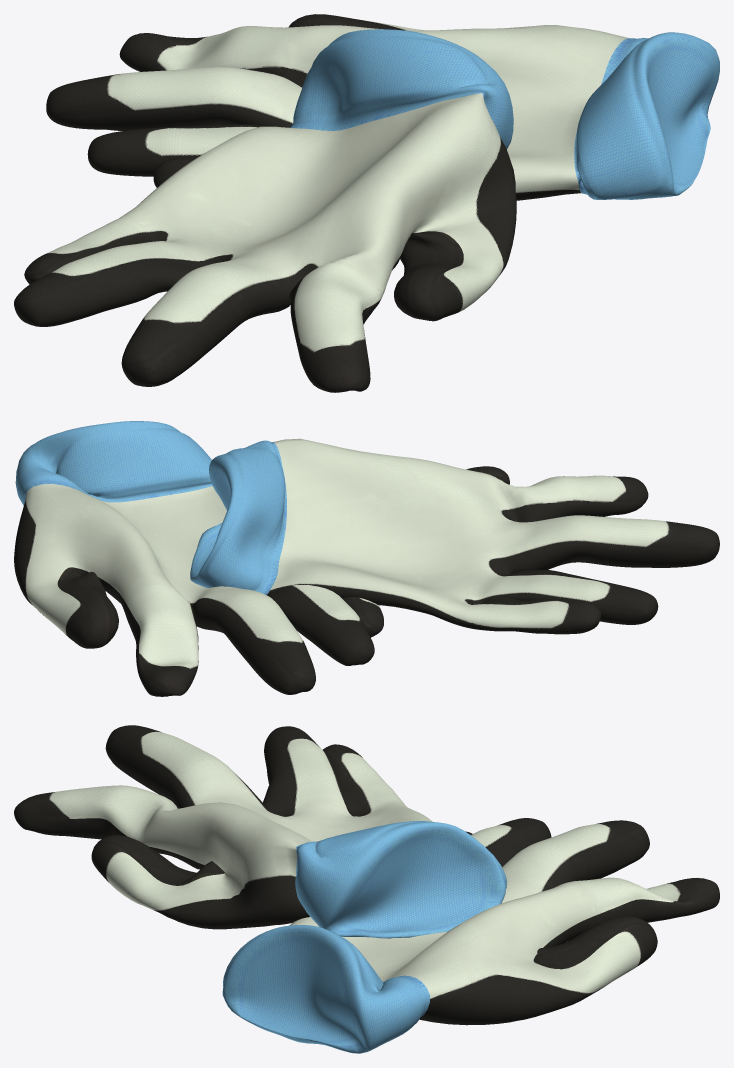
The model's file is gloves.fbx.
The picture shows the model from 3 angles, top to bottom: view 1: azimuth 30°, elevation 25°; view 2: azimuth 150°, elevation 25°; view 3: azimuth 270°, elevation 25°; orthographic projection. The views are drawn at different scales.
Visible parts, largest first — view 1: glove_r, glove_l; view 2: glove_r, glove_l; view 3: glove_r, glove_l.
Part boxes in pixels (x1,y1,x2,y2): glove_r: (14,29,516,392); glove_l: (46,14,719,200); glove_r: (190,438,719,634); glove_l: (14,421,383,696); glove_r: (14,725,507,938); glove_l: (222,818,719,1053).
Bounding box in the file's own units: 34.87 × 6.25 × 33.18.
